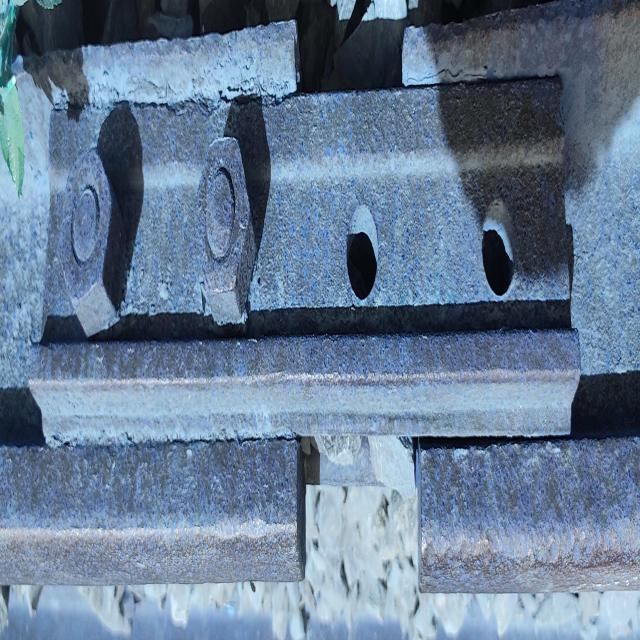Defective Joint: (28, 76, 580, 435)
